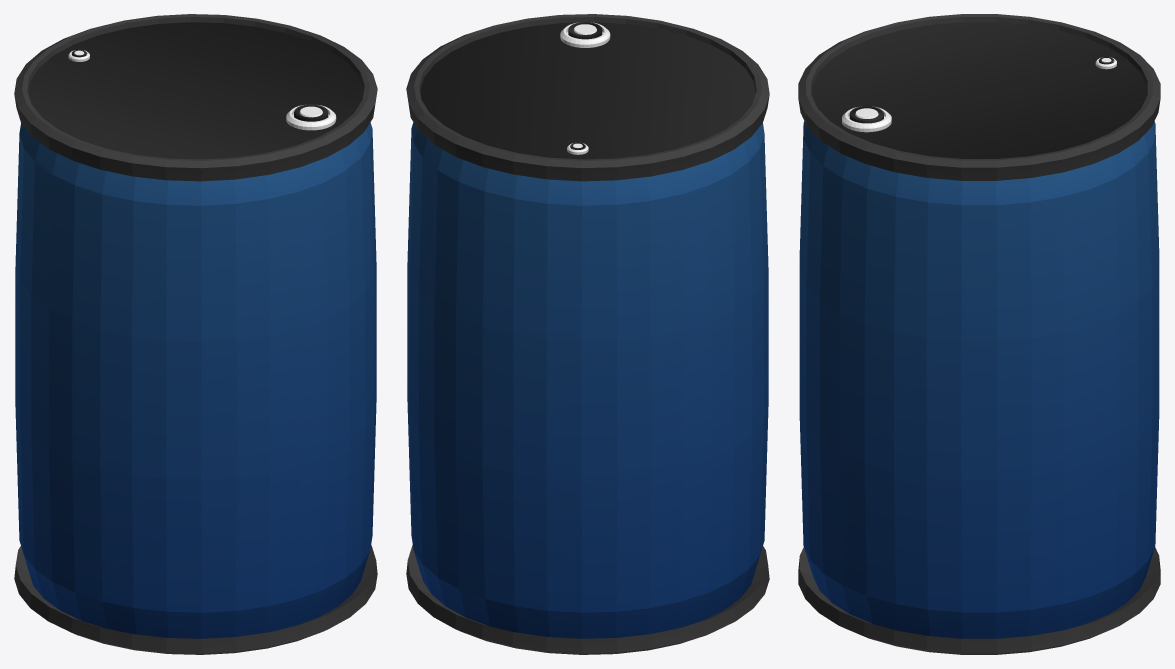
The model's file is Water Barrel #1.fbx.
3 renders of one model, left to right at view 1: azimuth 30°, elevation 25°; view 2: azimuth 150°, elevation 25°; view 3: azimuth 270°, elevation 25°, orthographic.
Parts seen in each view (by area): view 1: Water Barrel #1; view 2: Water Barrel #1; view 3: Water Barrel #1.
Boxes of the visible parts, x1,y1,x2,y2 form: Water Barrel #1: (14,14,377,654); Water Barrel #1: (406,14,769,654); Water Barrel #1: (798,14,1160,654).
Size of the model in its own units: 425 by 281 by 281.
1 material, 1 textured.
